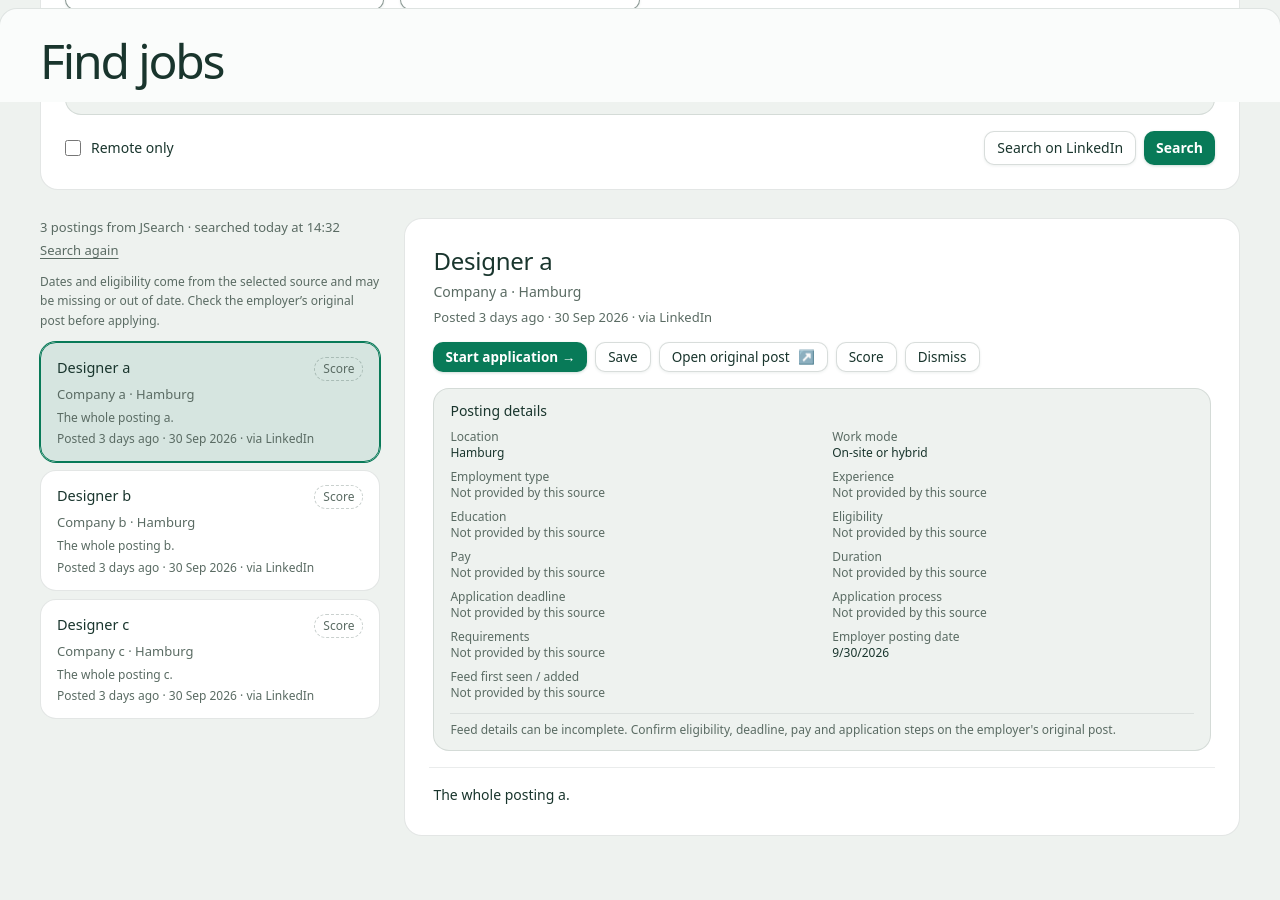
Test: the results › shows another posting when it's picked, and moves with the arrow keys
(page scrolled)
Click the button "Designer b": (94, 495) [40,470,380,591]
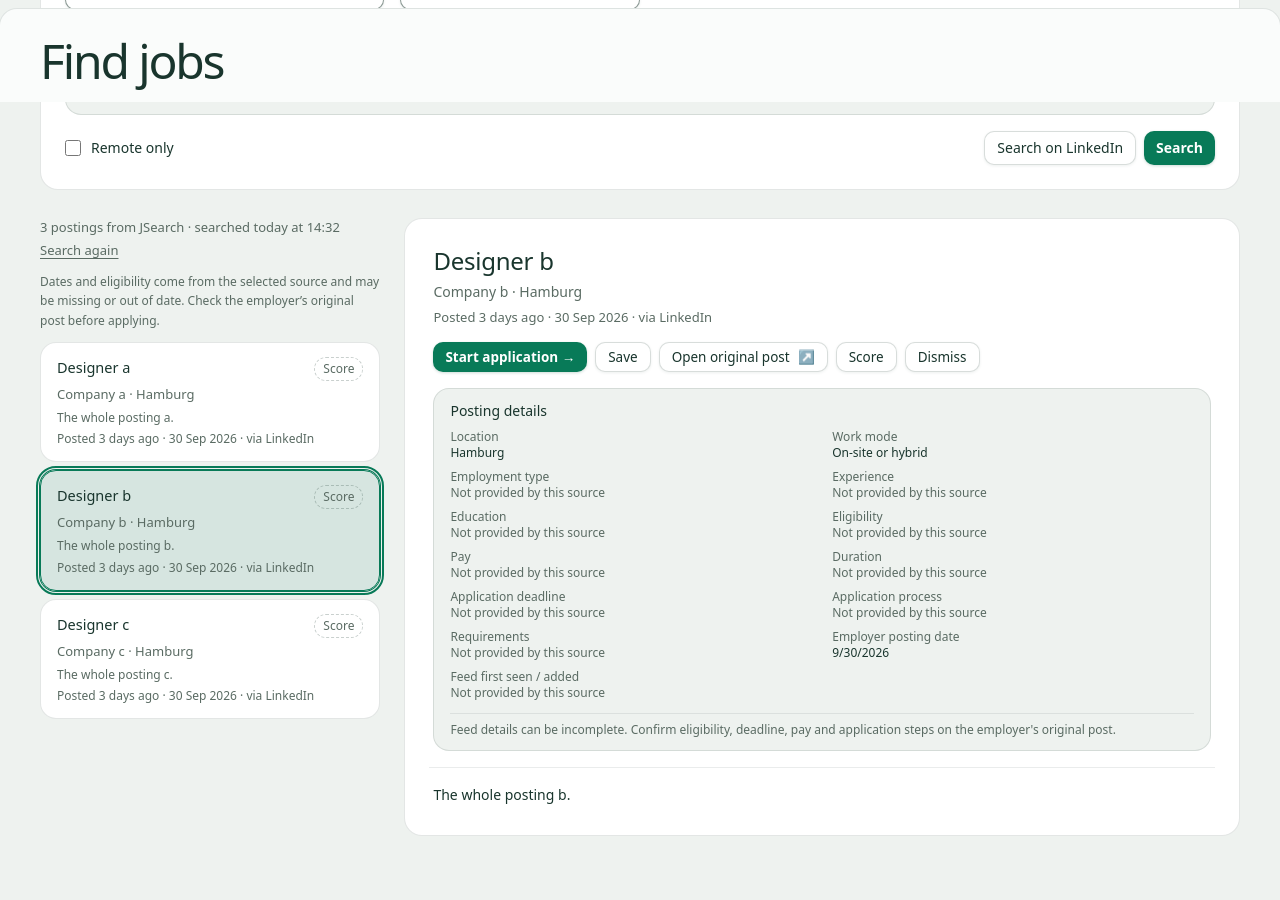
Expected: the heading "Designer b" is shown, [433,244,554,277]
Press Arrowdown
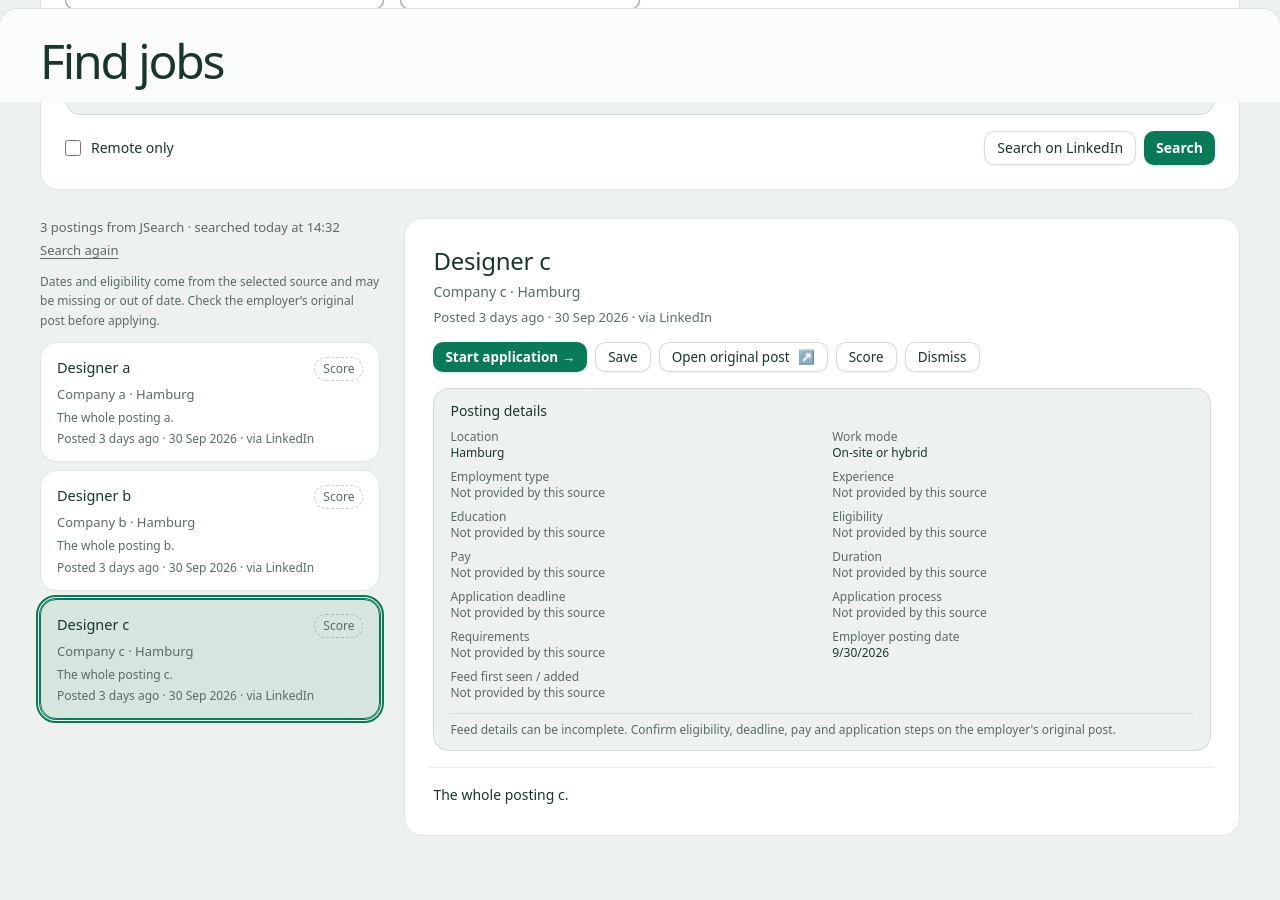
Expected: the heading "Designer c" is shown, [433,244,551,277]
Press Arrowdown Arrowup Arrowup
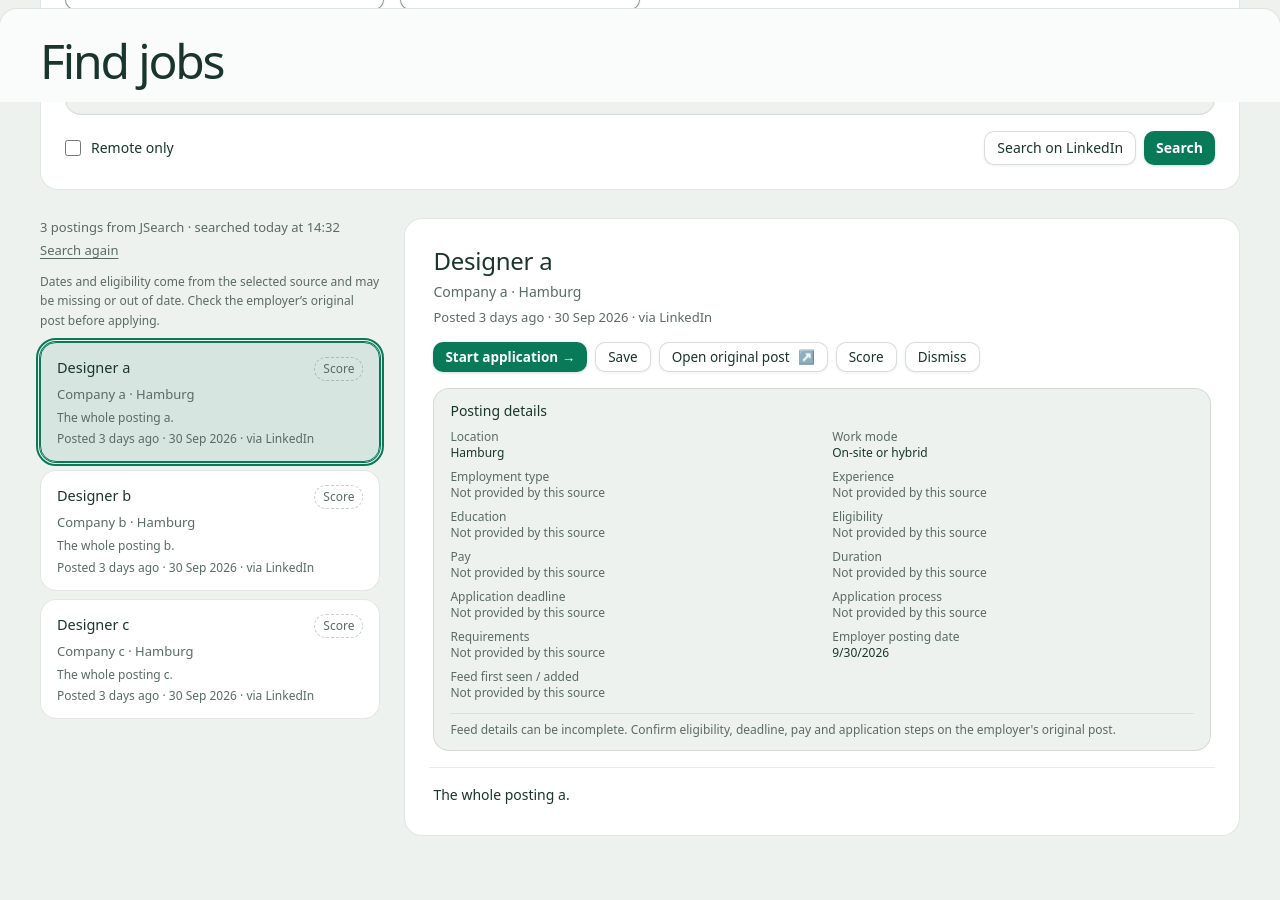
Expected: the heading "Designer a" is shown, [433,244,552,277]
